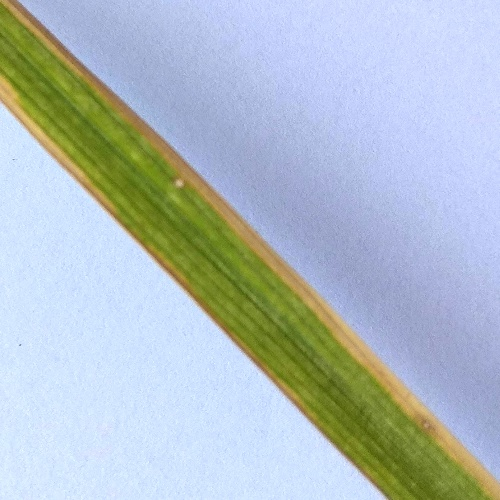Busuk Leher: (168, 167, 189, 194), (414, 410, 436, 435)
